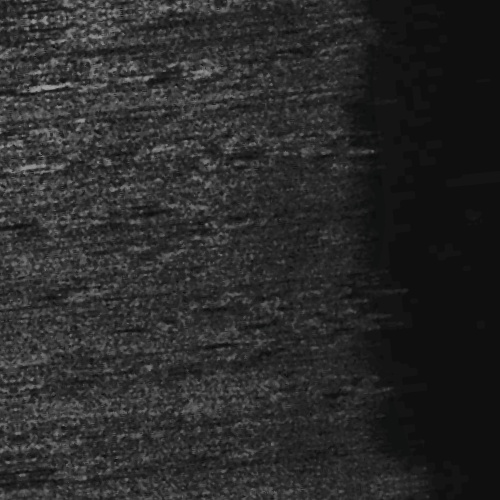object: (37, 62, 100, 67), (0, 333, 41, 338)
shadow: (0, 62, 68, 67), (0, 333, 9, 338)
